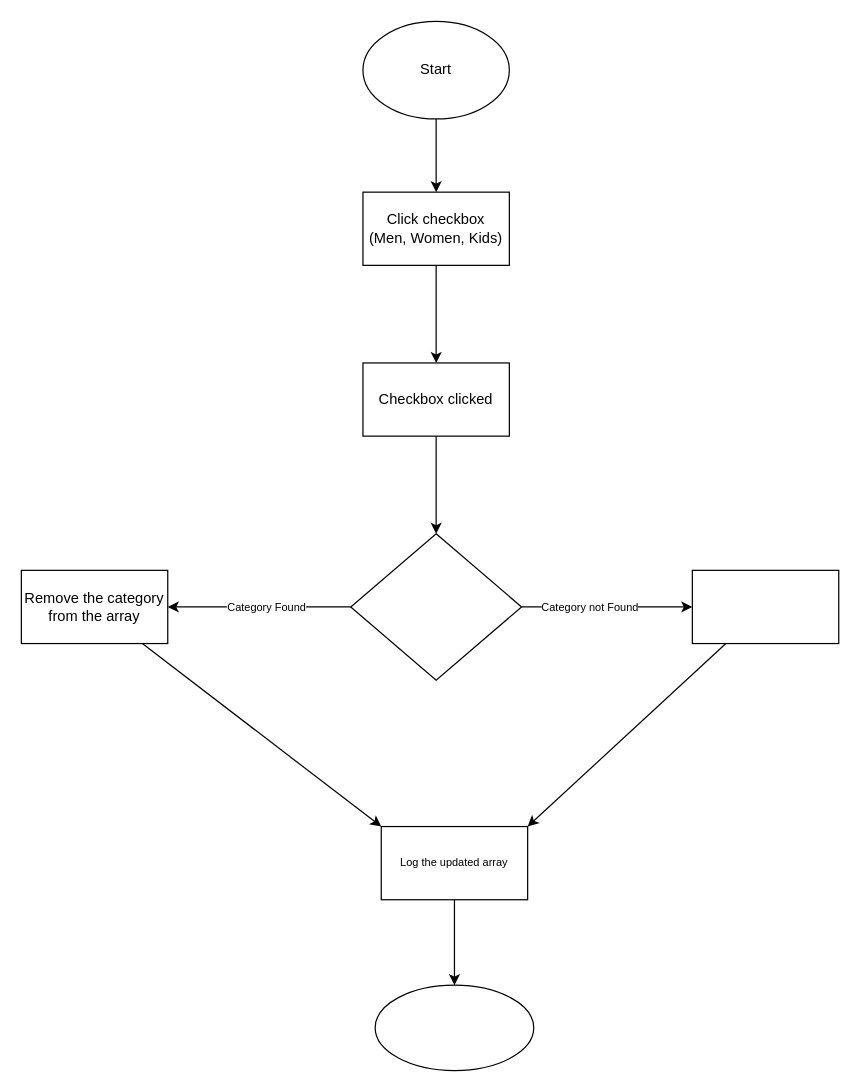
The diagram is 860 pixels wide and 1092 high, and some of its shapes have lost their labels. Each missing label, with the box of its shape:
Add category to the array: (691, 569, 839, 644)
Check if the following category is in the array(e.g. "Men): (350, 533, 522, 680)
End: (374, 984, 534, 1071)
